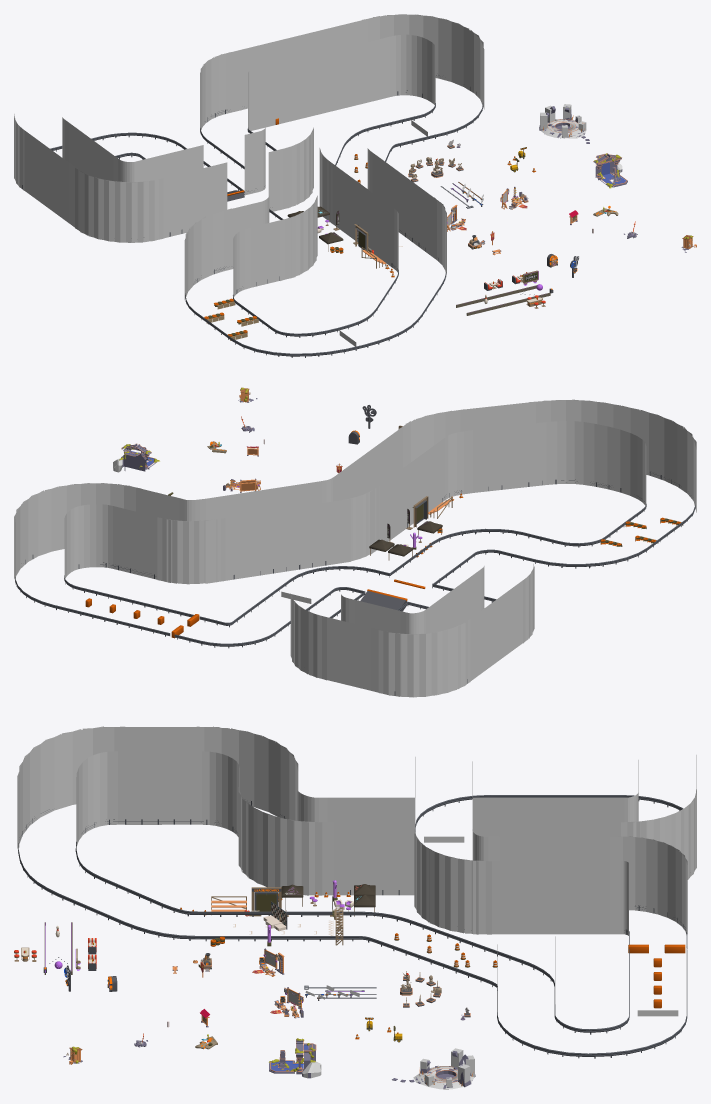
File: areas-compressed.glb
3 views of the same model, one above another, from view 1: azimuth 30°, elevation 25°; view 2: azimuth 150°, elevation 25°; view 3: azimuth 270°, elevation 25° (orthographic). The views are drawn at different scales.
Parts seen in each view (by area): view 1: trimesh, refRailsPhysicalFixed, Cube089, Plane119_1, blocks; view 2: trimesh, refRailsPhysicalFixed, jump, Cube089, Cube088; view 3: trimesh, refRailsPhysicalFixed, Cube088, Cube089, Cube173.
Part boxes in pixels (left/top/right/bottom): trimesh: left=14, top=14, right=484, bottom=299; refRailsPhysicalFixed: left=22, top=75, right=483, bottom=357; Cube089: left=593, top=153, right=627, bottom=188; Plane119_1: left=456, top=285, right=550, bottom=315; blocks: left=204, top=298, right=258, bottom=340; trimesh: left=14, top=399, right=696, bottom=697; refRailsPhysicalFixed: left=15, top=471, right=695, bottom=695; jump: left=360, top=579, right=425, bottom=611; Cube089: left=119, top=443, right=159, bottom=471; Cube088: left=370, top=496, right=452, bottom=560; trimesh: left=17, top=726, right=696, bottom=1021; refRailsPhysicalFixed: left=18, top=795, right=687, bottom=1058; Cube088: left=210, top=887, right=374, bottom=946; Cube089: left=269, top=1038, right=316, bottom=1078; Cube173: left=392, top=1051, right=475, bottom=1088.
Bounding box in the file's own units: 169 × 22.1 × 169.
Materials: 25 (14 with a texture image).
